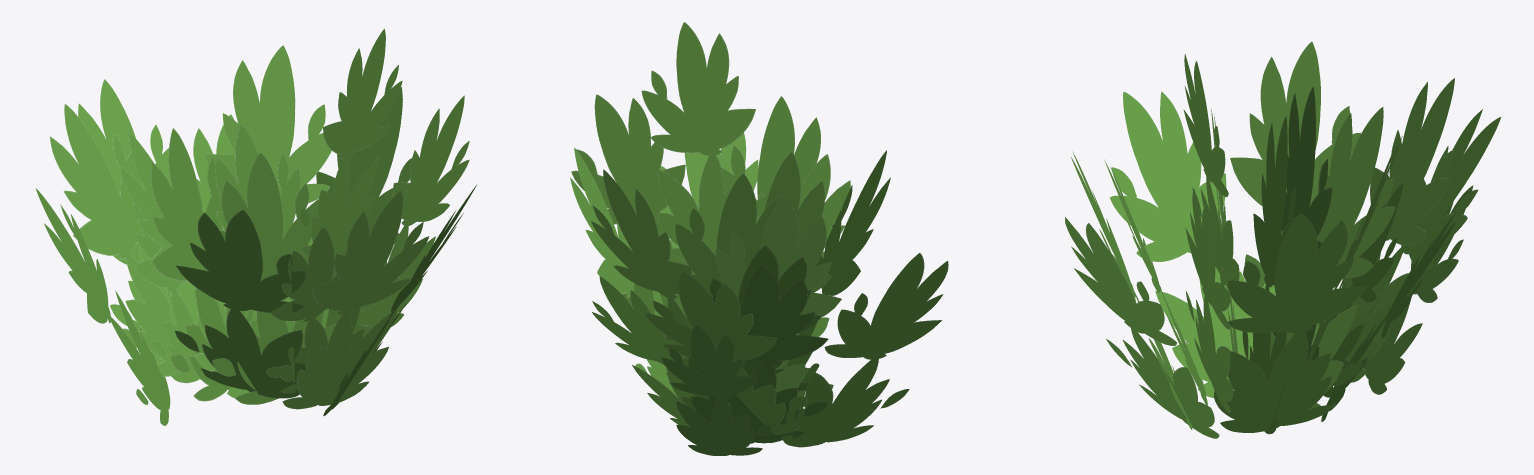
File: bush_3.fbx
3 renders of one model, left to right at view 1: azimuth 30°, elevation 25°; view 2: azimuth 150°, elevation 25°; view 3: azimuth 270°, elevation 25°, orthographic. The views are drawn at different scales.
Parts seen in each view (by area): view 1: Big_A1; view 2: Big_A1; view 3: Big_A1.
Boxes of the visible parts, x1,y1,x2,y2 form: Big_A1: (35, 29, 476, 425); Big_A1: (570, 22, 948, 455); Big_A1: (1065, 41, 1501, 438).
Bounding box in the file's own units: 1.15 × 0.9191 × 0.9715.
